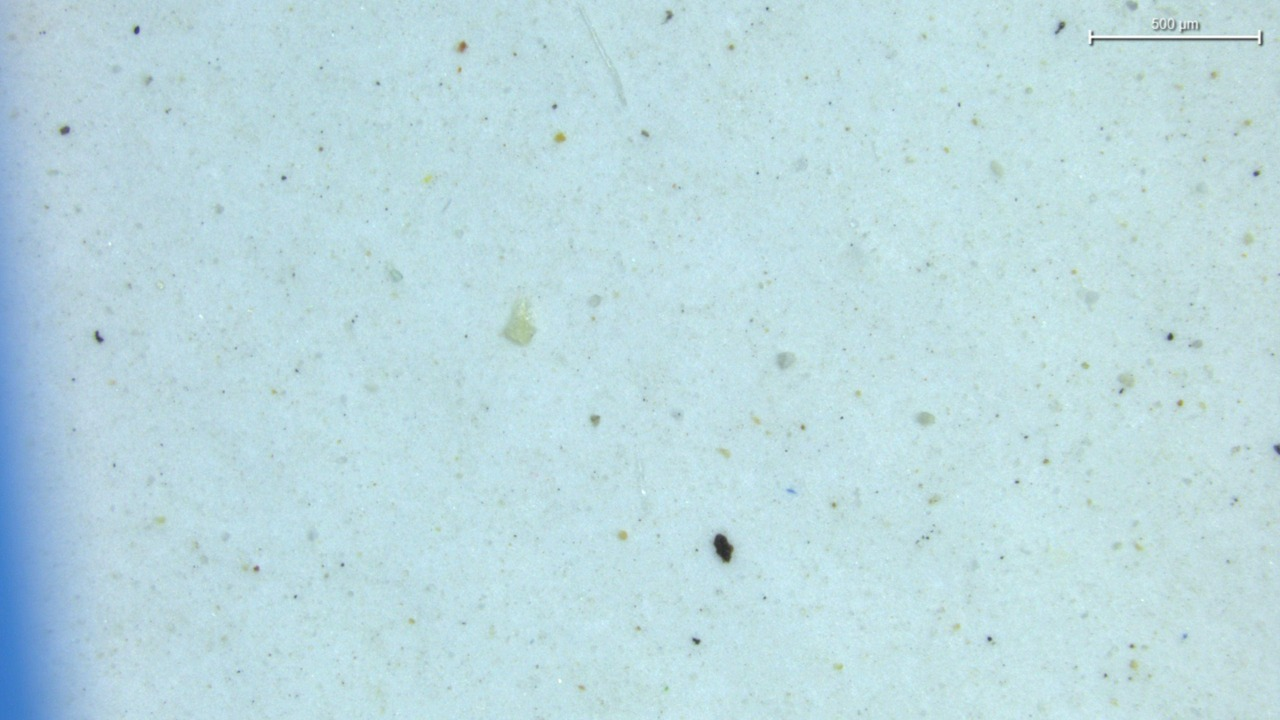microplastic_fragment: (503, 297, 536, 344)
